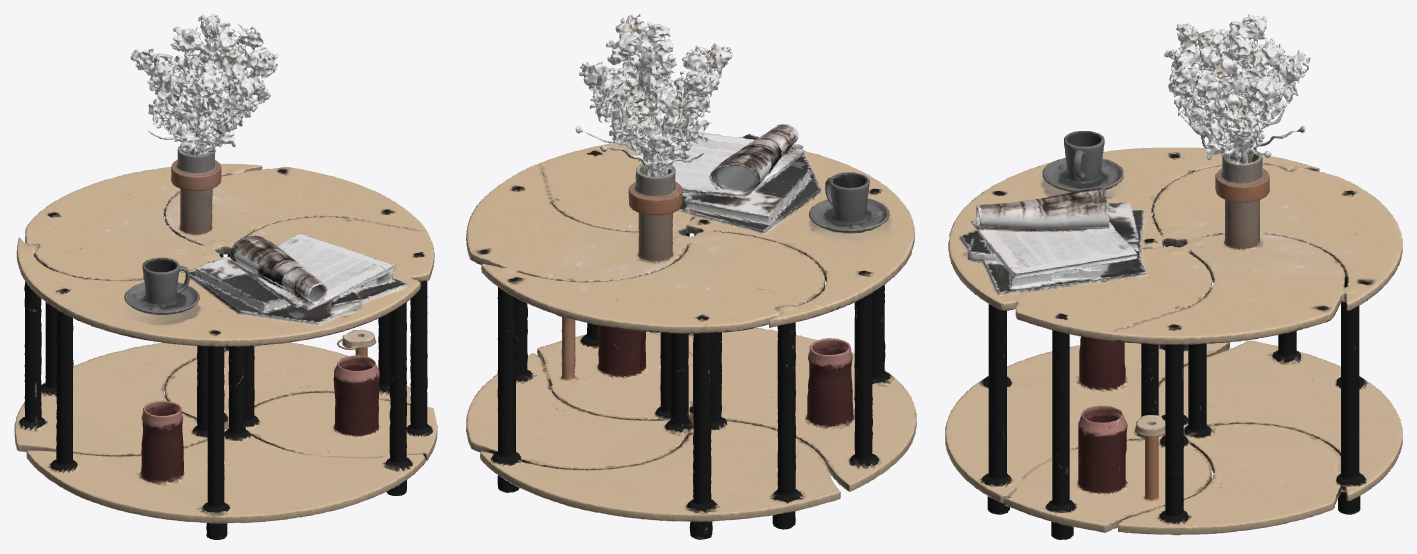
File: ying.glb
3 renders of one model, left to right at view 1: azimuth 30°, elevation 25°; view 2: azimuth 150°, elevation 25°; view 3: azimuth 270°, elevation 25°, orthographic. The views are drawn at different scales.
Visible parts, largest first — view 1: Mesh_0; view 2: Mesh_0; view 3: Mesh_0.
Part boxes in pixels (x1,y1,x2,y2): Mesh_0: (14, 14, 437, 539); Mesh_0: (466, 14, 916, 539); Mesh_0: (945, 14, 1402, 539).
Size of the model in its own units: 1.74 by 1.9 by 1.76.
1 material, 1 textured.
